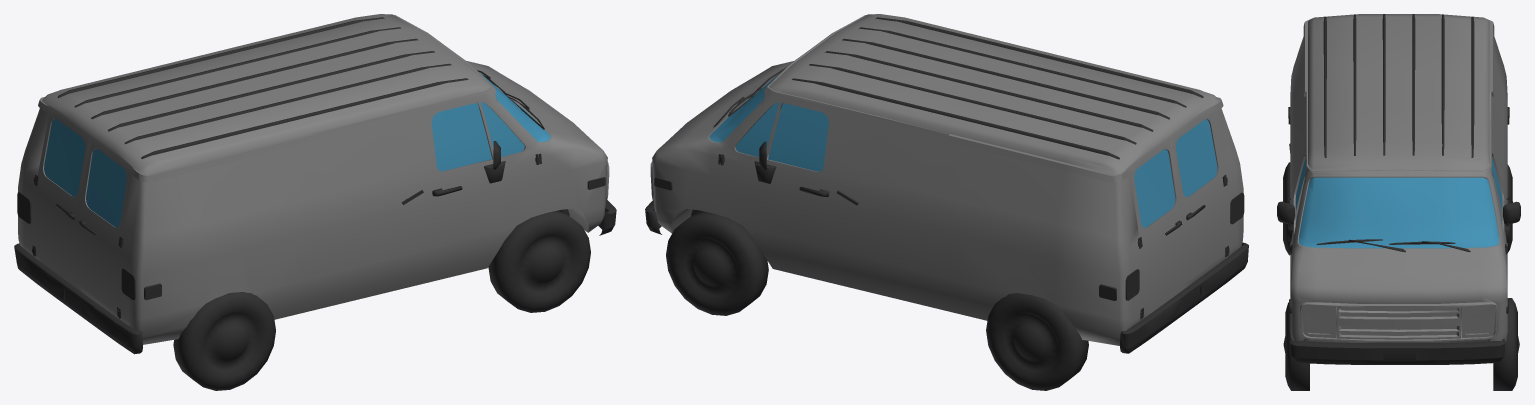
Rendered from SM_van_vehicle.fbx.
The picture shows the model from 3 angles, left to right: view 1: azimuth 30°, elevation 25°; view 2: azimuth 150°, elevation 25°; view 3: azimuth 270°, elevation 25°; orthographic projection. The views are drawn at different scales.
Visible parts, largest first — view 1: Object001; view 2: Object001; view 3: Object001.
Part boxes in pixels (x1,y1,x2,y2): Object001: [14, 14, 616, 390]; Object001: [645, 14, 1248, 390]; Object001: [1277, 14, 1520, 390].
Size of the model in its own units: 208 by 96.75 by 101.
